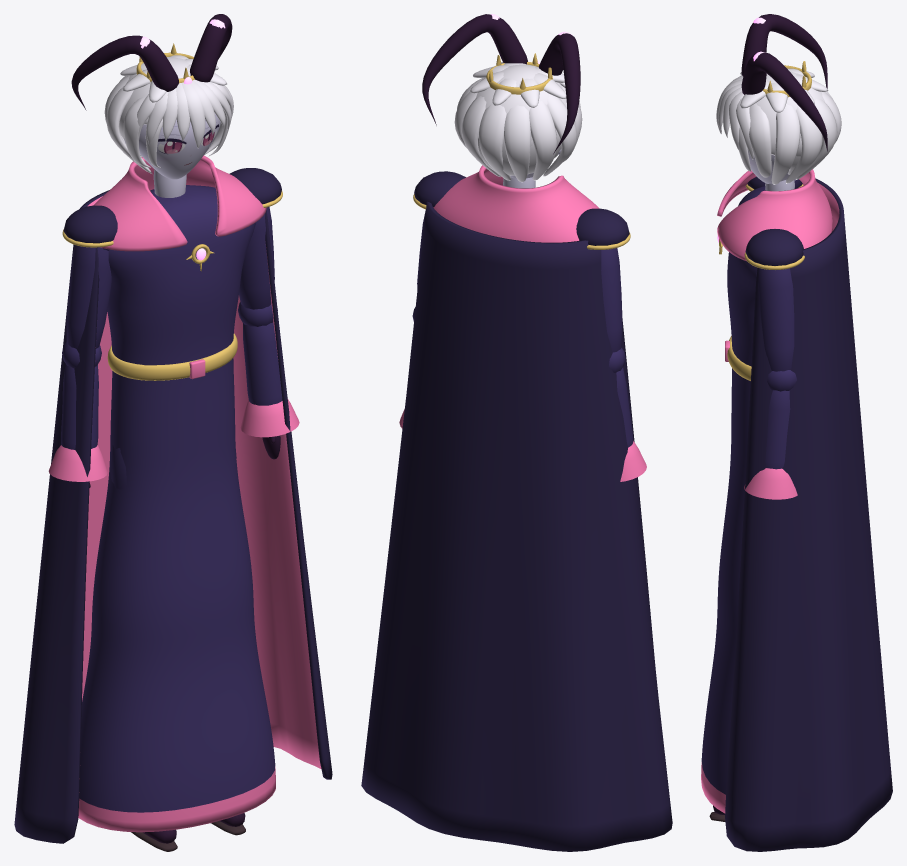
The picture shows the model from 3 angles, left to right: view 1: azimuth 30°, elevation 25°; view 2: azimuth 150°, elevation 25°; view 3: azimuth 270°, elevation 25°; orthographic projection. The views are drawn at different scales.
Visible parts, largest first — view 1: null:body.mesh, null:head.mesh, null:foreR.mesh, null:armL.mesh, null:foreL.mesh, null:armR.mesh, null:shinL.mesh; view 2: null:body.mesh, null:head.mesh, null:armL.mesh, null:foreL.mesh, null:armR.mesh; view 3: null:body.mesh, null:head.mesh, null:armR.mesh, null:foreR.mesh.
Part boxes in pixels (<box>): null:body.mesh: <box>14,155,332,843</box>; null:head.mesh: <box>71,14,233,197</box>; null:foreR.mesh: <box>238,302,299,459</box>; null:armL.mesh: <box>62,205,117,348</box>; null:foreL.mesh: <box>48,342,107,487</box>; null:armR.mesh: <box>229,168,282,309</box>; null:shinL.mesh: <box>131,829,177,851</box>; null:body.mesh: <box>361,165,672,851</box>; null:head.mesh: <box>422,14,582,188</box>; null:armL.mesh: <box>576,208,630,352</box>; null:foreL.mesh: <box>609,348,646,481</box>; null:armR.mesh: <box>413,171,465,289</box>; null:body.mesh: <box>701,169,892,851</box>; null:head.mesh: <box>716,14,841,191</box>; null:armR.mesh: <box>744,229,804,371</box>; null:foreR.mesh: <box>744,370,797,499</box>.
Size of the model in its own units: 0.7289 by 1.87 by 0.4228.
Materials: 23 (1 with a texture image).
